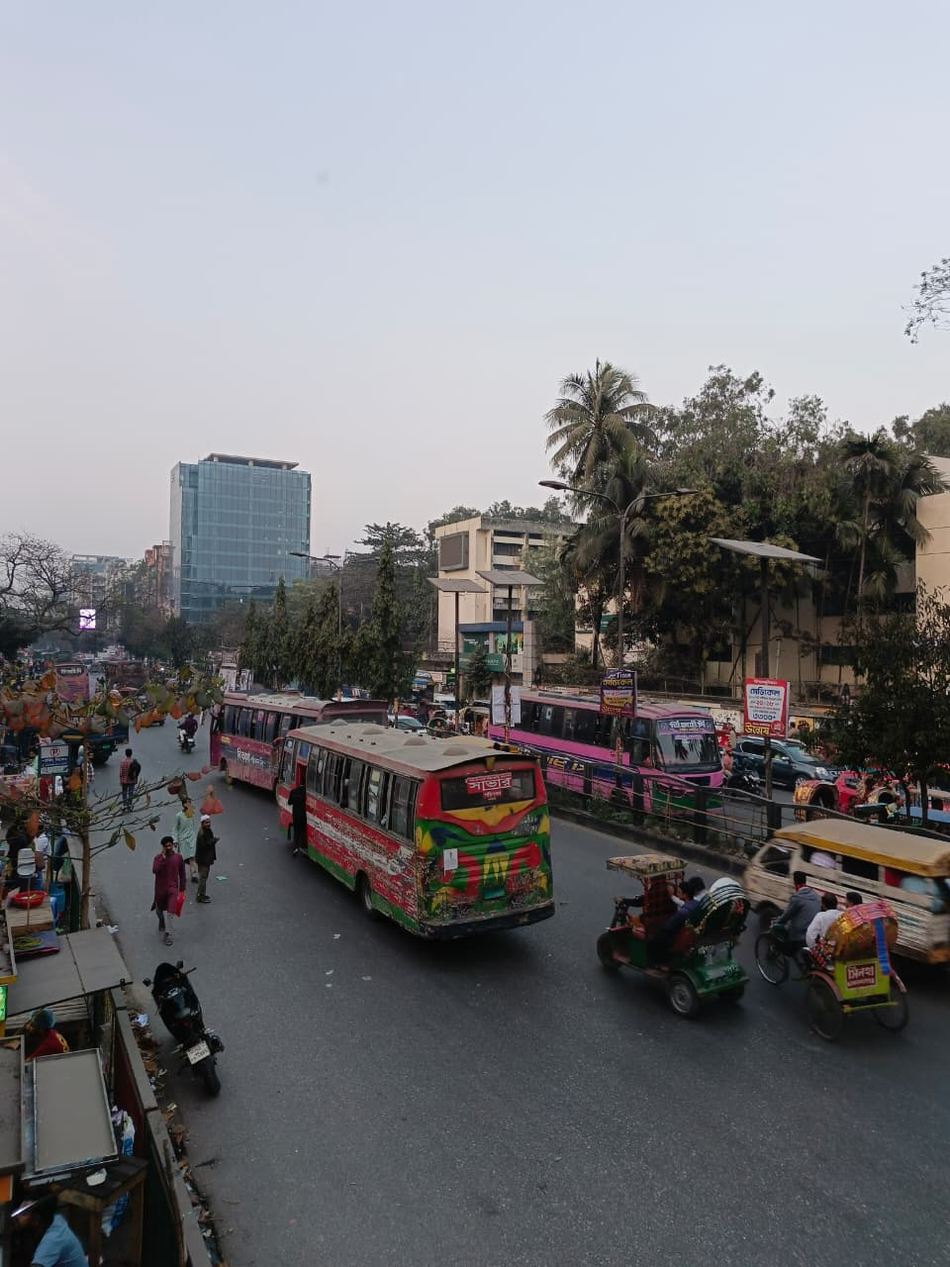Bikes: (148, 926, 287, 1161), (168, 688, 230, 775)
Bus: (220, 688, 580, 955), (500, 681, 752, 836)
Leguna: (752, 807, 950, 961)
auto-ricksaw: (584, 839, 758, 1038), (762, 886, 946, 1036)
